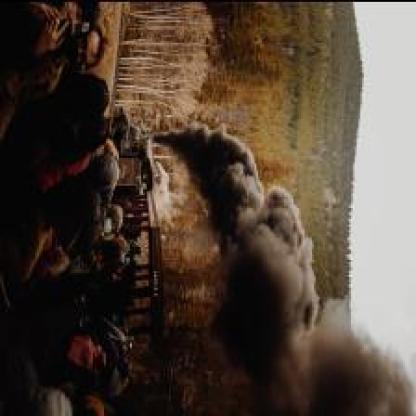Smoke: (162, 121, 408, 401)
